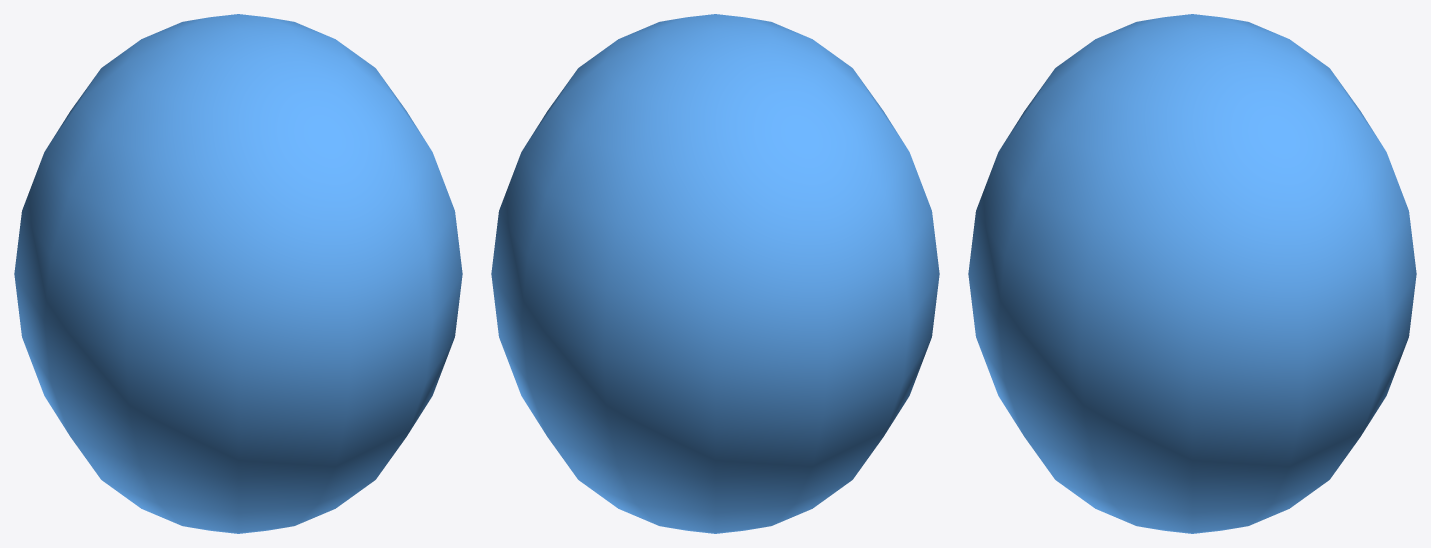
The model's file is Tempestália_stage2.obj.
3 views of the same model, side by side, from view 1: azimuth 30°, elevation 25°; view 2: azimuth 150°, elevation 25°; view 3: azimuth 270°, elevation 25° (orthographic).
Size of the model in its own units: 2 by 2.4 by 2.
